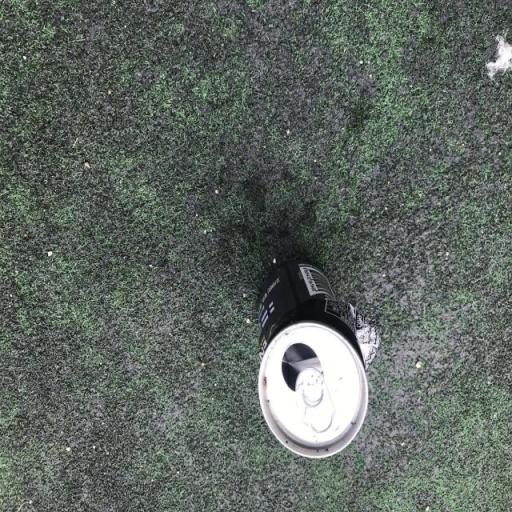metal: (236, 243, 390, 474)
